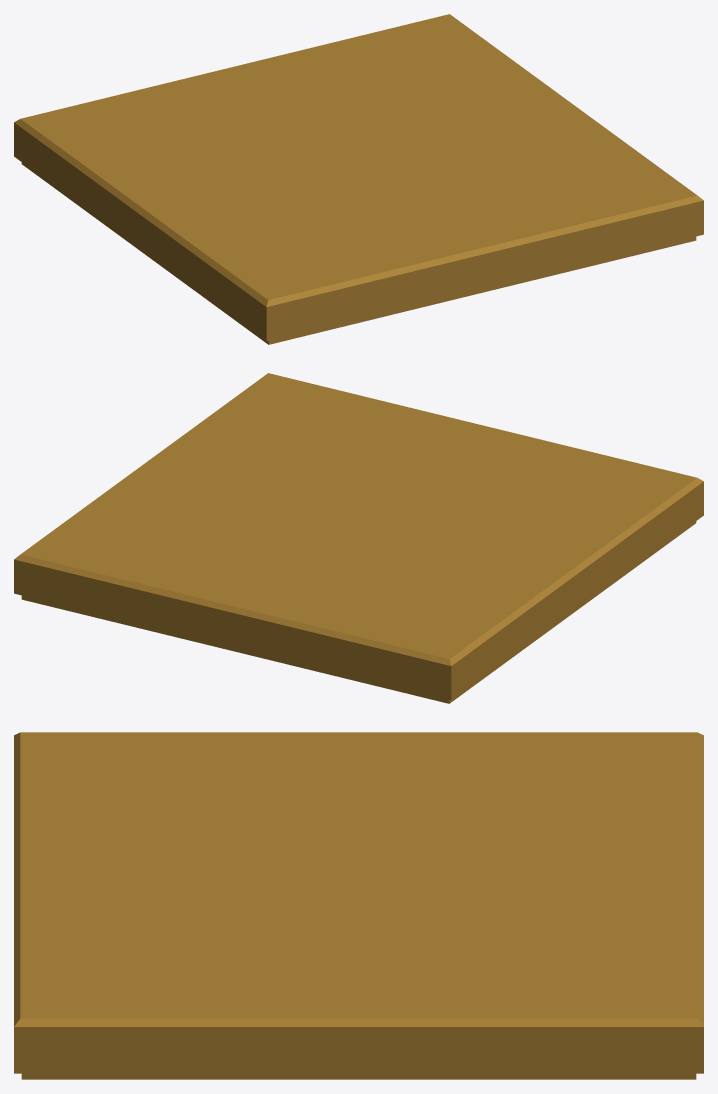
Rendered from 4x4 Plate.dae.
3 views of the same model, one above another, from view 1: azimuth 30°, elevation 25°; view 2: azimuth 150°, elevation 25°; view 3: azimuth 270°, elevation 25° (orthographic). The views are drawn at different scales.
Parts seen in each view (by area): view 1: Part.0; view 2: Part.0; view 3: Part.0.
Boxes of the visible parts, x1,y1,x2,y2 form: Part.0: (14,14,703,344); Part.0: (14,373,703,703); Part.0: (14,732,703,1079).
Size of the model in its own units: 31.92 by 3.16 by 31.92.
